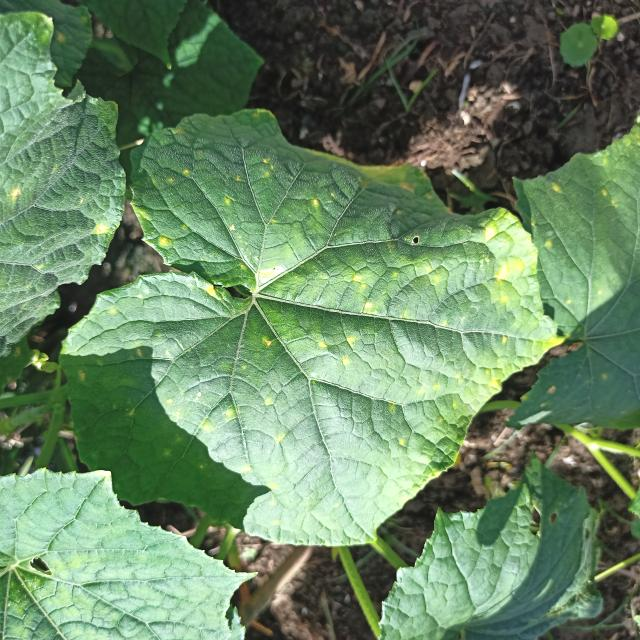disease_cucumber: (402, 215, 533, 400), (317, 268, 383, 373), (145, 162, 197, 252), (163, 379, 241, 436)
